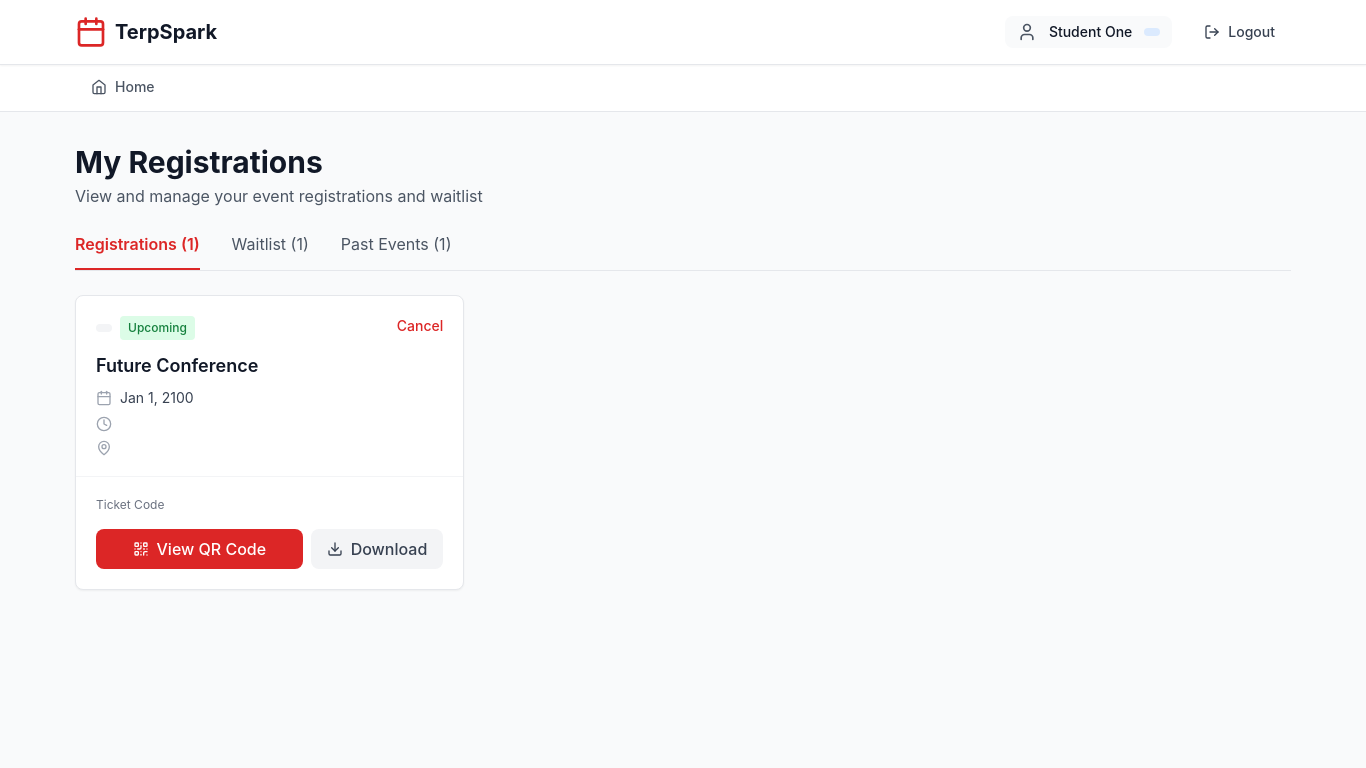
Test: MyRegistrationsPage › shows past and cancelled registrations in past tab
Expected: the heading "My Registrations" is shown, [75, 144, 323, 180]
Click the button "Past Events (1)" at (396, 251), box [341, 232, 452, 270]
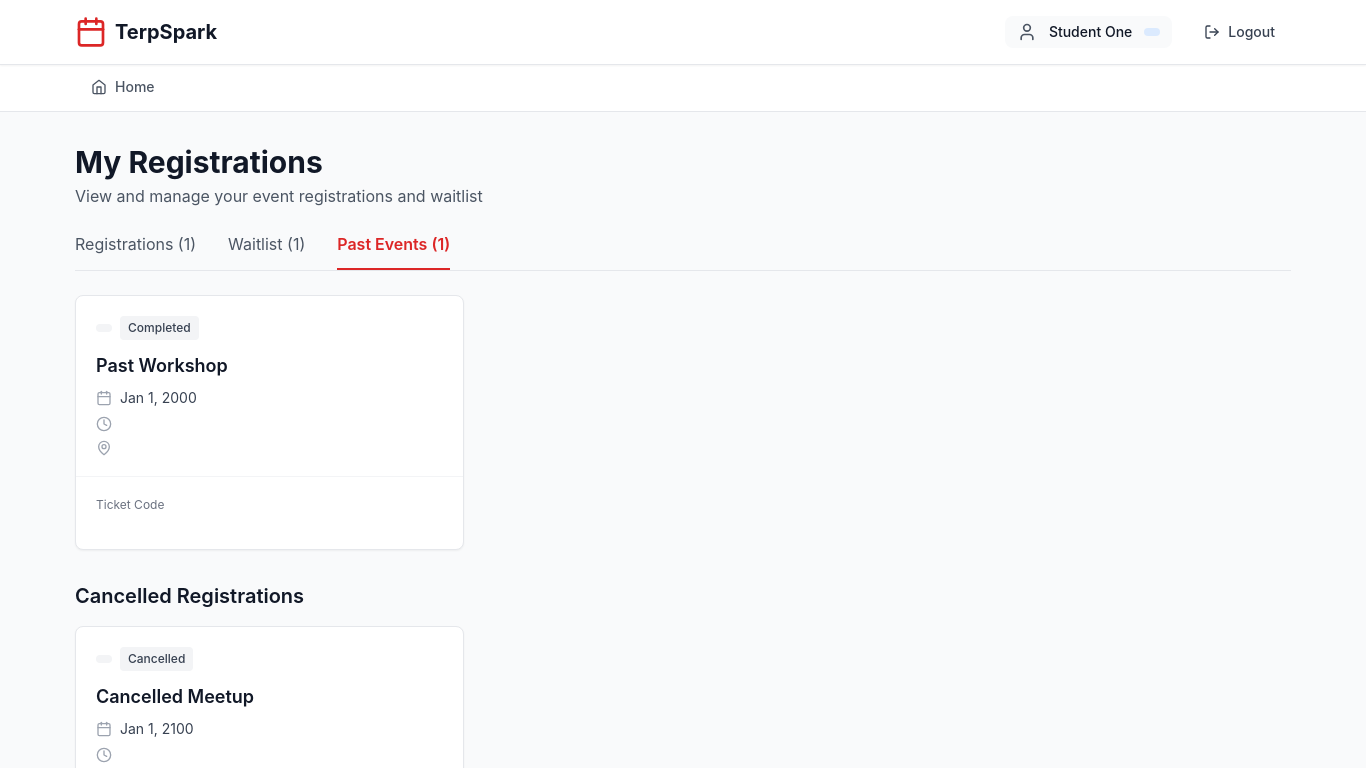
Result: the heading "Past Workshop" is shown at [96, 355, 228, 376]
Result: the heading "Cancelled Meetup" is shown at [96, 686, 254, 707]
Result: the heading "Cancelled Registrations" is shown at [75, 584, 304, 608]
